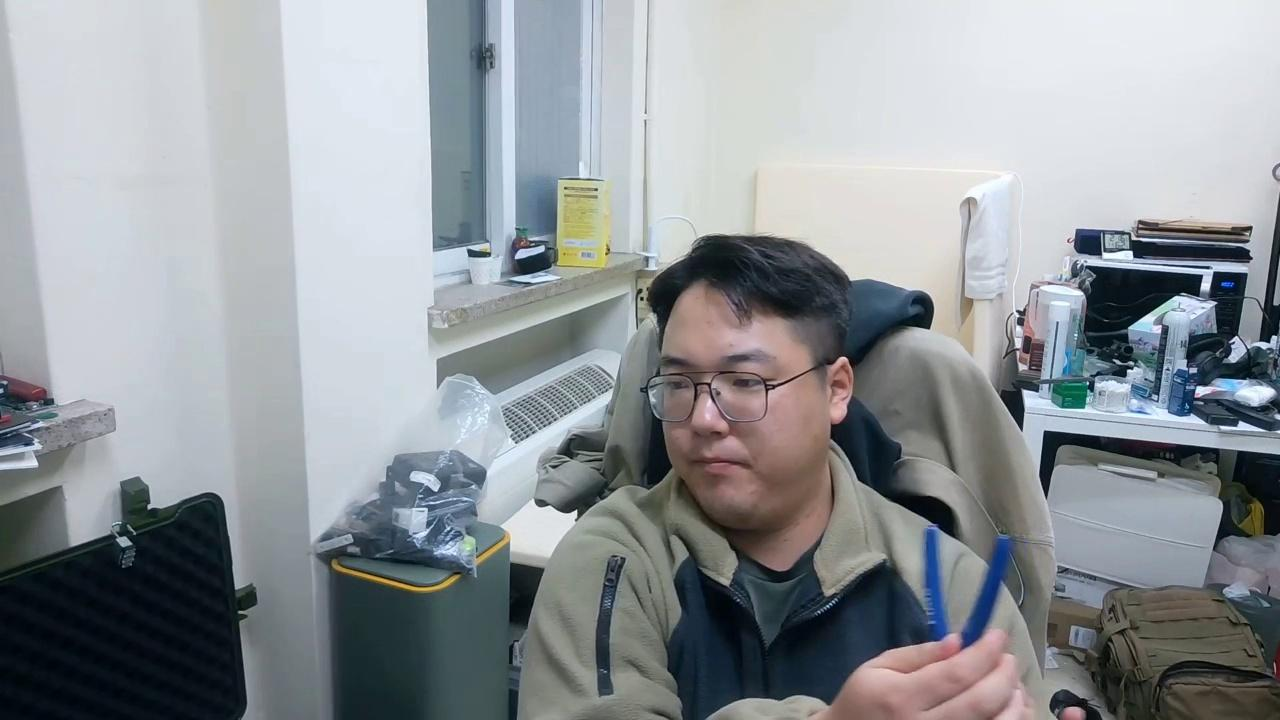blue_pliers: (921, 523, 1017, 653)
